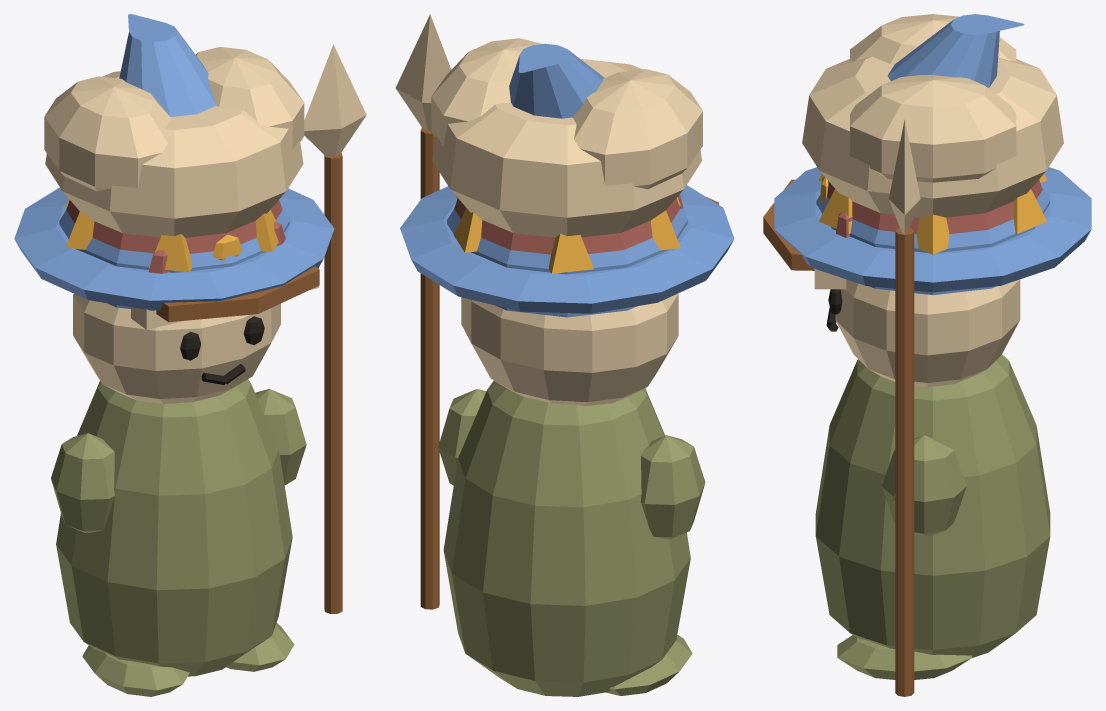
Rendered from visitor.glb.
3 renders of one model, left to right at view 1: azimuth 30°, elevation 25°; view 2: azimuth 150°, elevation 25°; view 3: azimuth 270°, elevation 25°, orthographic. The views are drawn at different scales.
Visible parts, largest first — view 1: body, prop_chef_hat, prop_wizard_hat, head, prop_spear, prop_guard_cap, arm_nub_-1, prop_helmet, foot_-1, arm_nub_1, prop_crown, foot_1 (+1 smaller); view 2: body, prop_chef_hat, prop_wizard_hat, head, prop_spear, arm_nub_-1, prop_helmet, prop_crown, prop_guard_cap, arm_nub_1, foot_-1; view 3: body, prop_chef_hat, prop_wizard_hat, head, prop_spear, arm_nub_1, prop_guard_cap, prop_helmet, prop_crown, foot_1.
Boxes of the visible parts, left/top/right/bottom form: body: left=56, top=379, right=292, bottom=676; prop_chef_hat: left=44, top=47, right=304, bottom=237; prop_wizard_hat: left=14, top=14, right=334, bottom=310; head: left=73, top=294, right=280, bottom=403; prop_spear: left=304, top=44, right=366, bottom=613; prop_guard_cap: left=66, top=200, right=319, bottom=322; arm_nub_-1: left=51, top=433, right=114, bottom=533; prop_helmet: left=59, top=210, right=318, bottom=329; foot_-1: left=82, top=645, right=189, bottom=696; arm_nub_1: left=255, top=389, right=306, bottom=485; prop_crown: left=65, top=197, right=281, bottom=272; foot_1: left=226, top=623, right=294, bottom=671; body: left=443, top=380, right=690, bottom=696; prop_chef_hat: left=431, top=38, right=702, bottom=237; prop_wizard_hat: left=400, top=43, right=734, bottom=313; head: left=461, top=293, right=678, bottom=406; prop_spear: left=395, top=14, right=451, bottom=609; arm_nub_-1: left=640, top=435, right=705, bottom=539; prop_helmet: left=447, top=209, right=687, bottom=317; prop_crown: left=453, top=195, right=680, bottom=273; prop_guard_cap: left=454, top=197, right=718, bottom=254; arm_nub_1: left=438, top=389, right=486, bottom=485; foot_-1: left=606, top=635, right=692, bottom=695; body: left=815, top=354, right=1050, bottom=657; prop_chef_hat: left=802, top=14, right=1063, bottom=217; prop_wizard_hat: left=774, top=14, right=1091, bottom=292; head: left=835, top=279, right=1020, bottom=387; prop_spear: left=889, top=119, right=920, bottom=696; arm_nub_1: left=882, top=435, right=966, bottom=536; prop_guard_cap: left=763, top=176, right=1042, bottom=270; prop_helmet: left=814, top=190, right=1049, bottom=295; prop_crown: left=819, top=174, right=1047, bottom=254; foot_1: left=837, top=635, right=971, bottom=679.
Bounding box in the file's own units: 1.05 × 1.94 × 0.9285.
